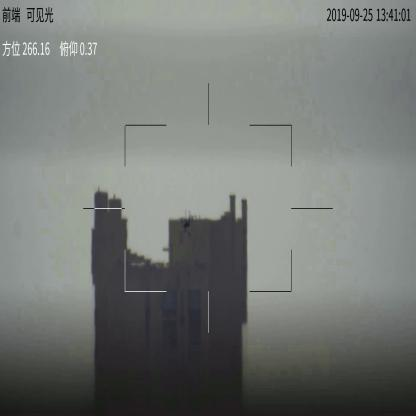uav: (180, 212, 195, 237)
